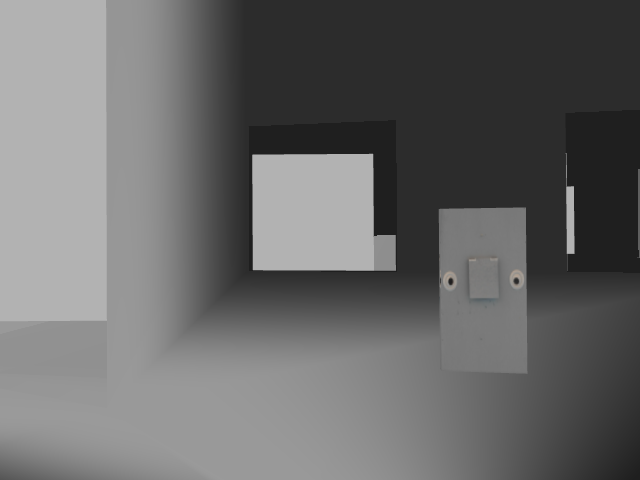facade: (439, 255, 525, 301)
